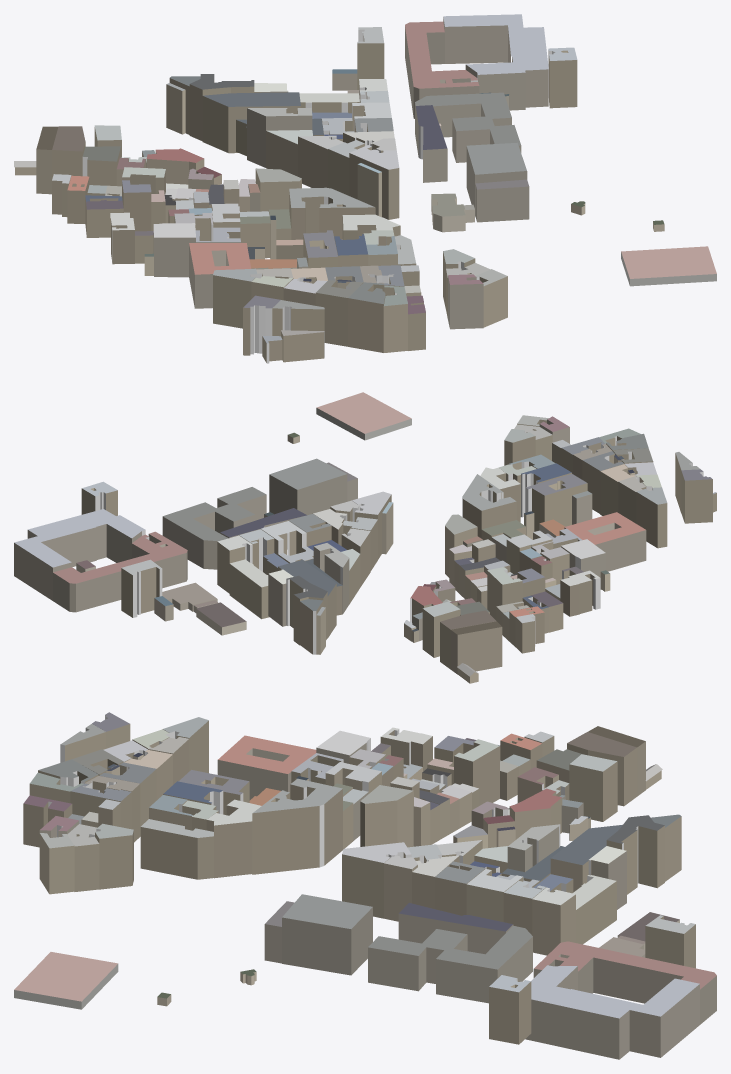
3 renders of one model, top to bottom at view 1: azimuth 30°, elevation 25°; view 2: azimuth 150°, elevation 25°; view 3: azimuth 270°, elevation 25°, orthographic. The views are drawn at different scales.
Parts seen in each view (by area): view 1: tuile; view 2: tuile; view 3: tuile.
Boxes of the visible parts, box(x1,y1,x2,y2) form: tuile: box(14, 14, 716, 363); tuile: box(14, 392, 716, 683); tuile: box(14, 712, 716, 1059).
Bounding box in the file's own units: 267 × 29.99 × 274.
